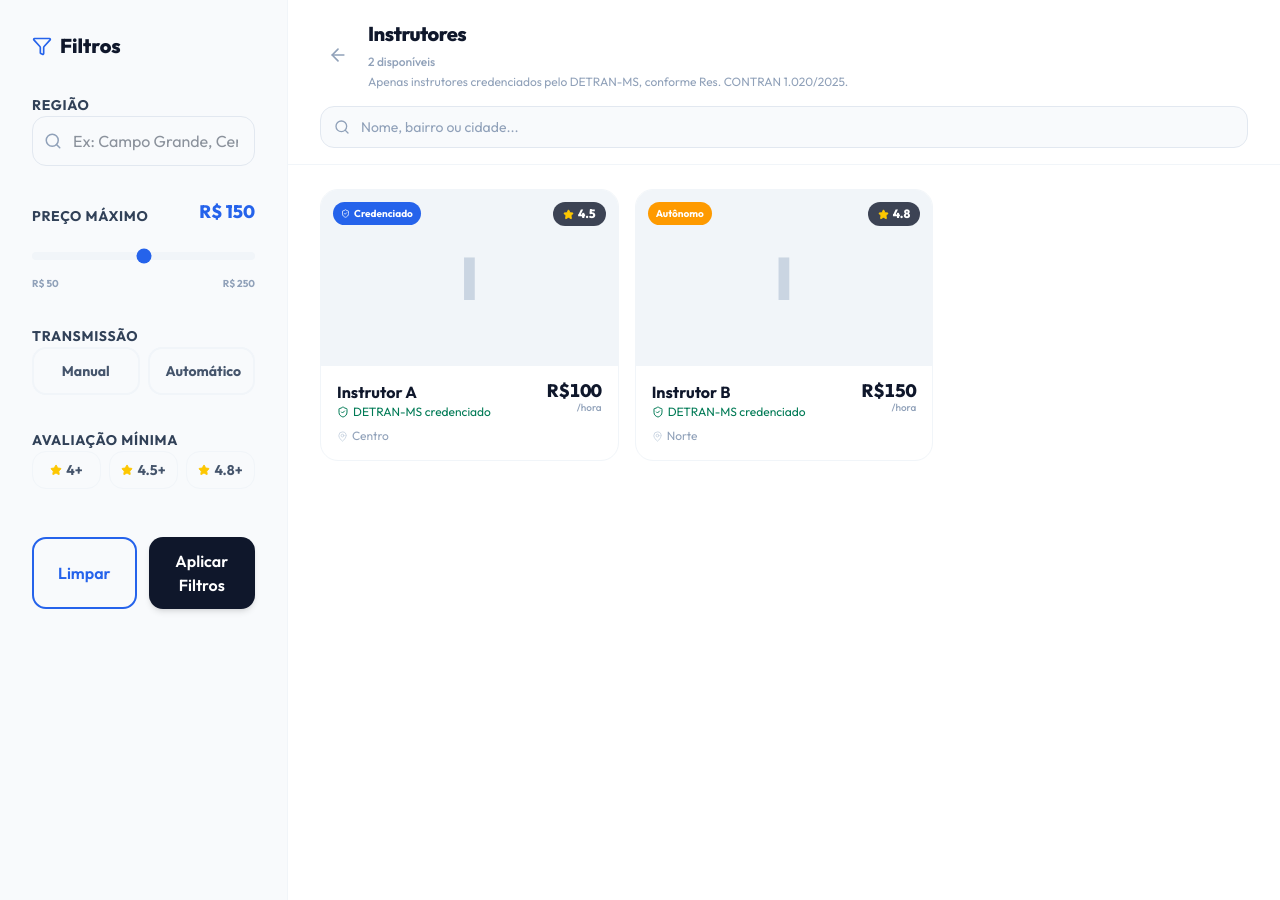
Test case: Navigator Integration Flows › Instructor Marketplace › filters instructors by price
Check: the heading "Instrutor A" is shown, box [337,382,417,402]
Set the slider to "120". click: (112, 256)
box: [32,252,255,260]
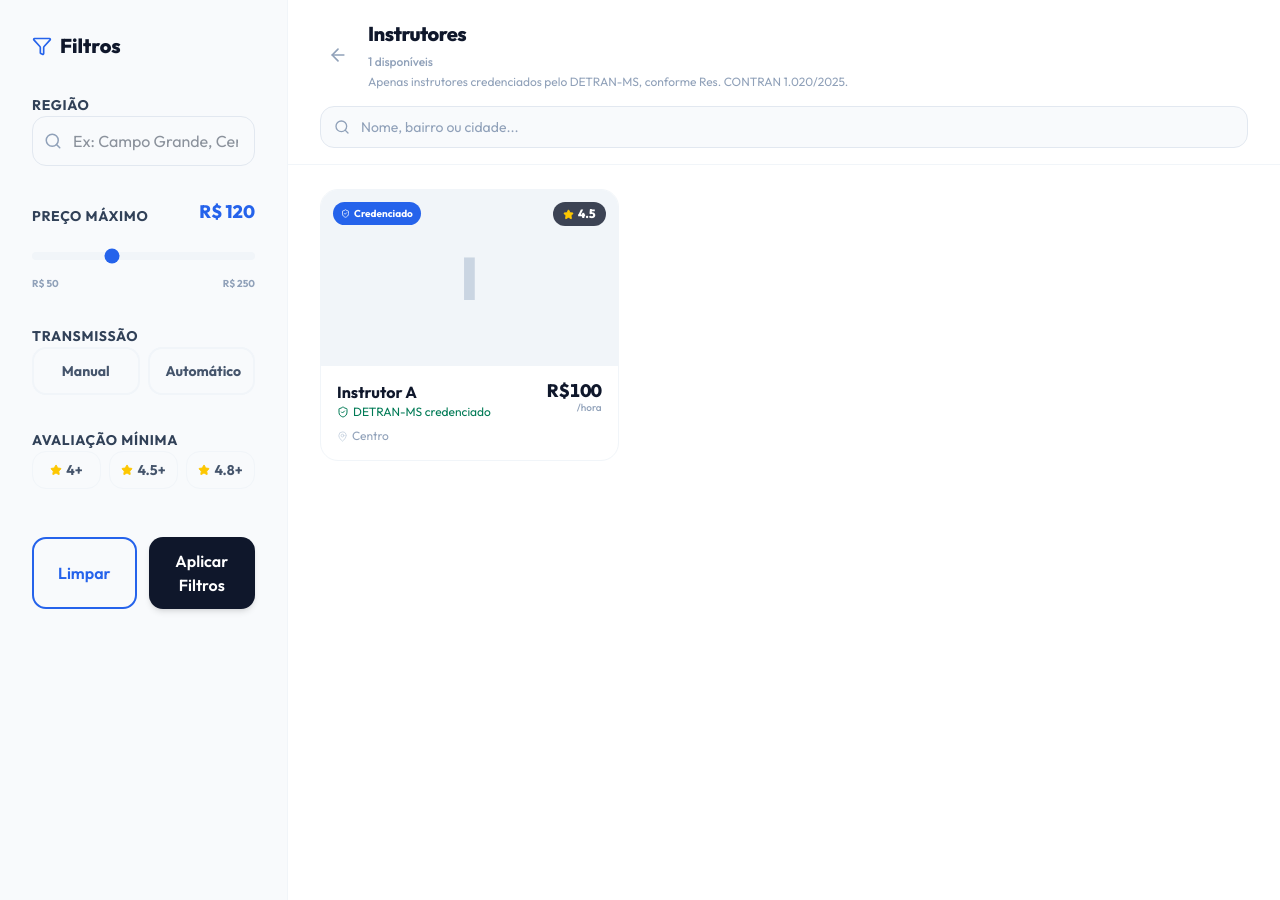
Check: the heading "Instrutor A" is shown, box [337,382,417,402]
Check: the button "Instrutor B" is gone
